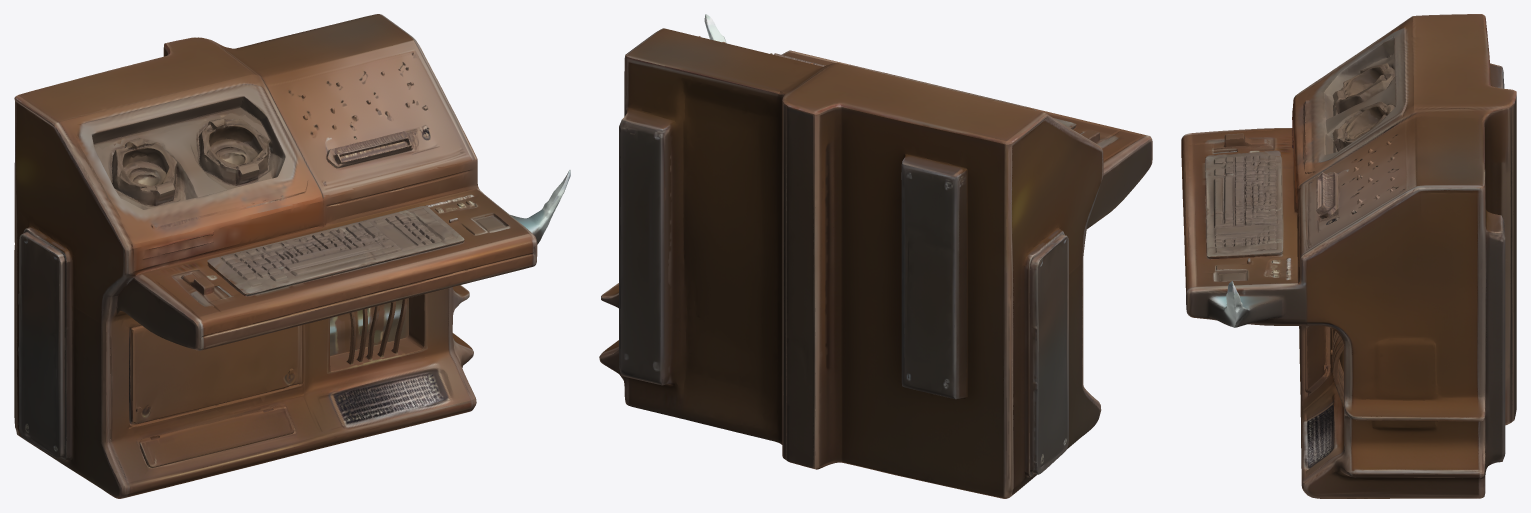
The model's file is base_basic_pbr.fbx.
3 views of the same model, side by side, from view 1: azimuth 30°, elevation 25°; view 2: azimuth 150°, elevation 25°; view 3: azimuth 270°, elevation 25° (orthographic). The views are drawn at different scales.
Visible parts, largest first — view 1: model; view 2: model; view 3: model.
Boxes of the visible parts, x1=… form: model: x1=14, y1=14, x2=570, y2=498; model: x1=599, y1=14, x2=1152, y2=498; model: x1=1181, y1=14, x2=1516, y2=498.
Bounding box in the file's own units: 190 × 143 × 135.
Materials: 1 (1 with a texture image).
